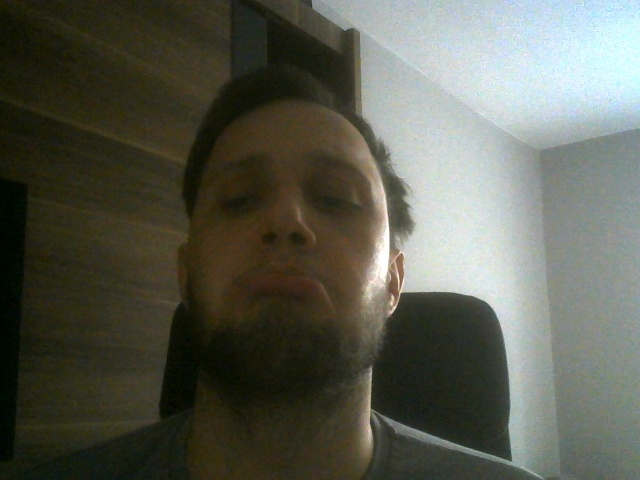neutral: (174, 69, 404, 391)
